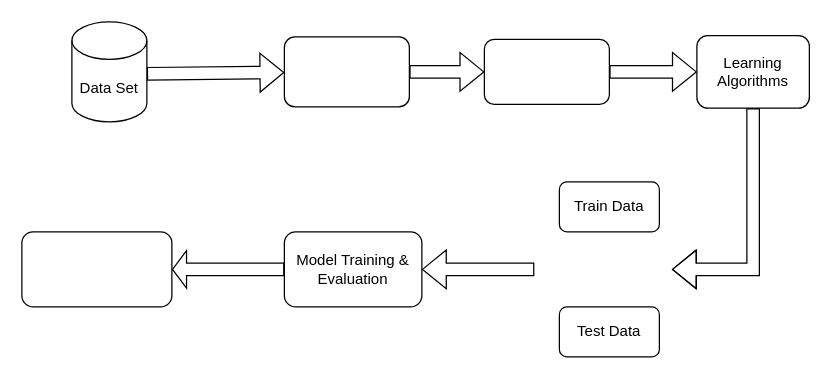
This 831x379 diagram has some shape labels left out. Here are the shapes that lost their labels. From the top down, the centre of each, then its label:
At (346,71): "Data Pre- Processing".
At (546,71): "Feature Extraction".
At (96,269): "Performance Metrics".
